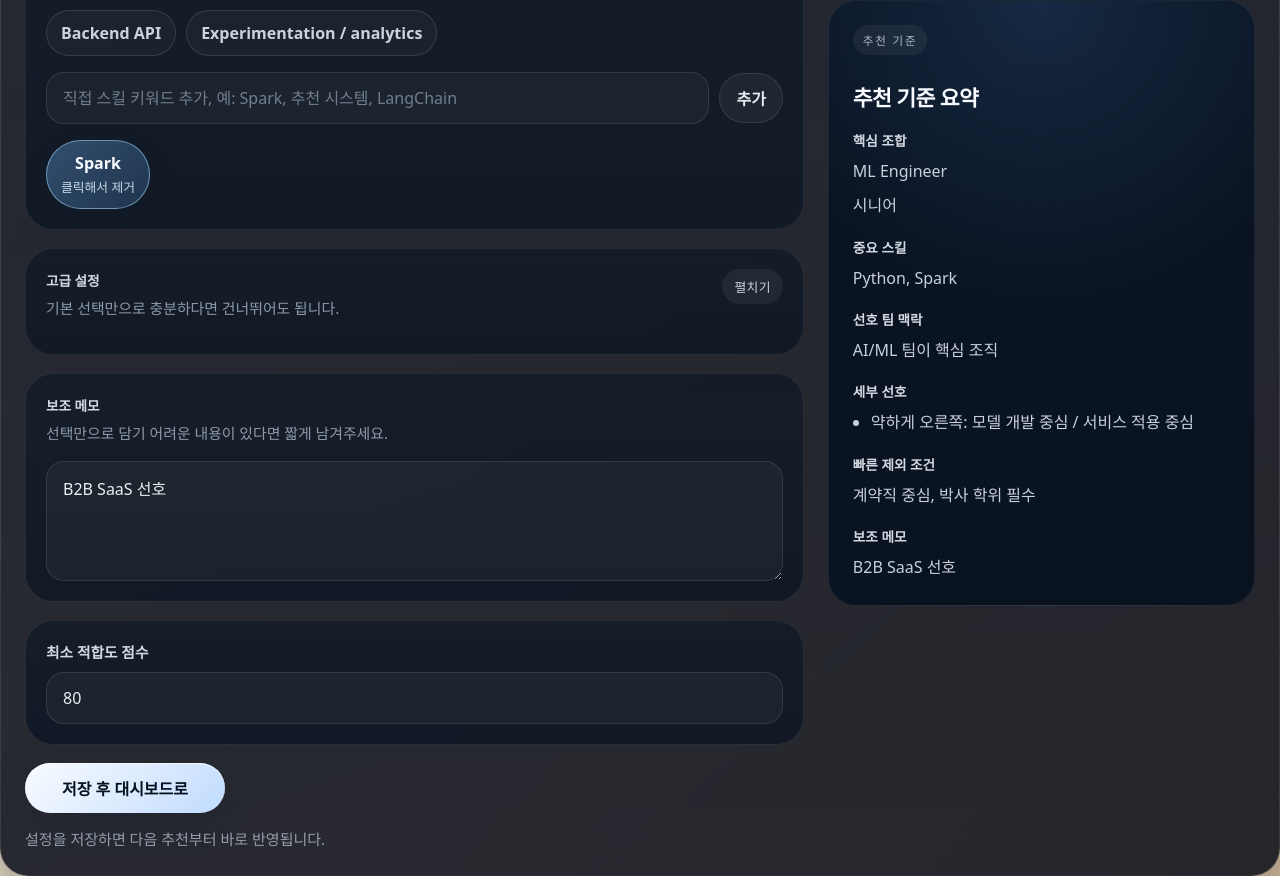
OnboardingForm › surfaces backend error details when save fails
(page scrolled)
Click the button "저장 후 대시보드로": (125, 788) [25,763,225,813]
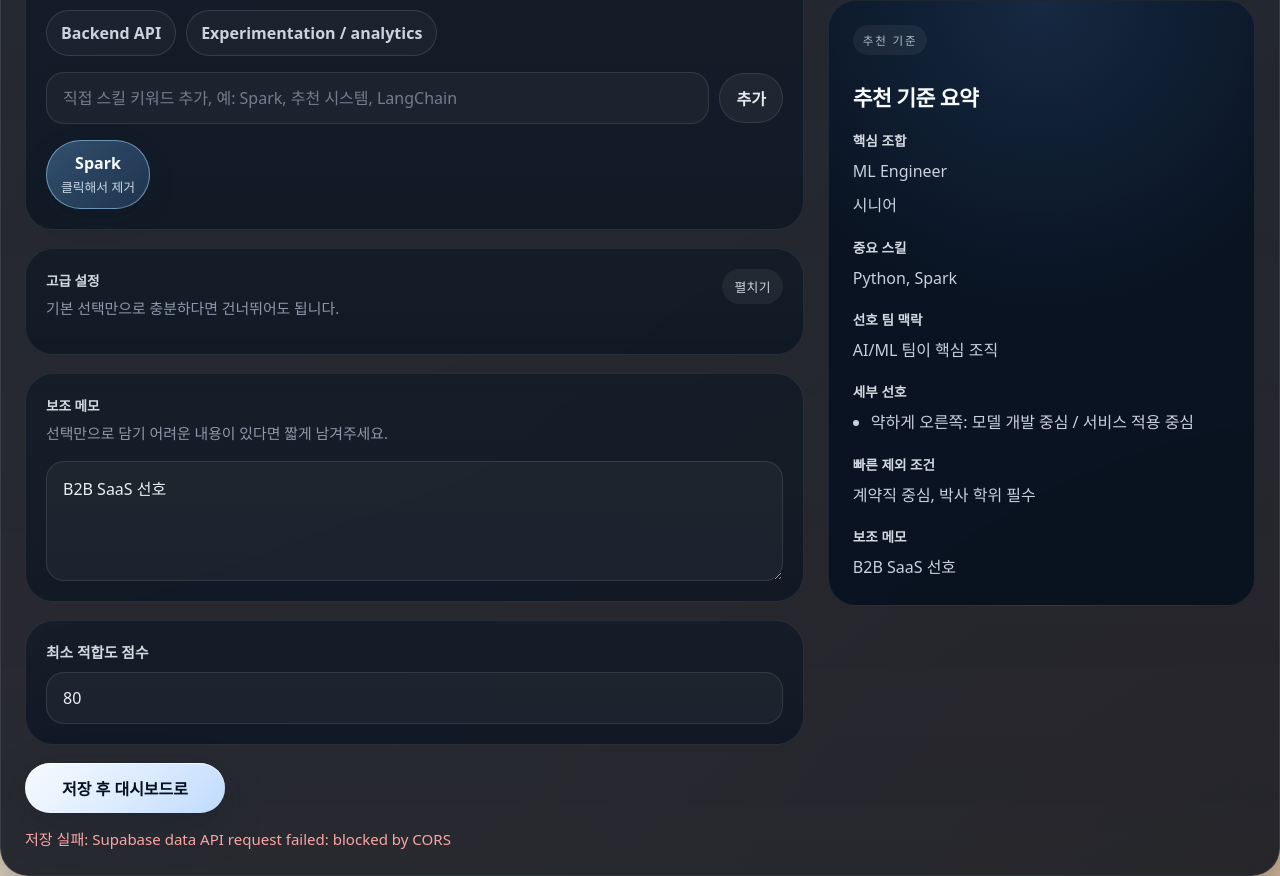
Result: the text "저장 실패: Supabase data API request failed: blocked by CORS" is shown at [25,829,451,849]
